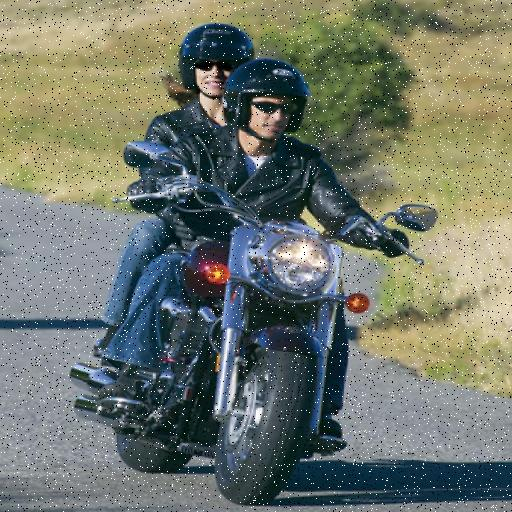Helmet: (174, 27, 251, 101), (231, 62, 301, 137)
Motor: (140, 182, 380, 500)
